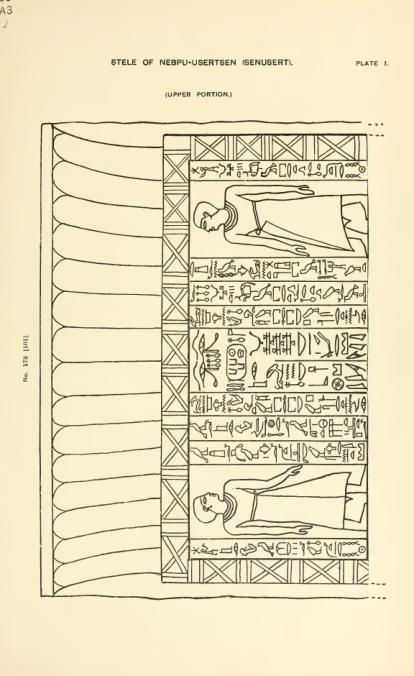circle: (224, 343, 249, 383)
